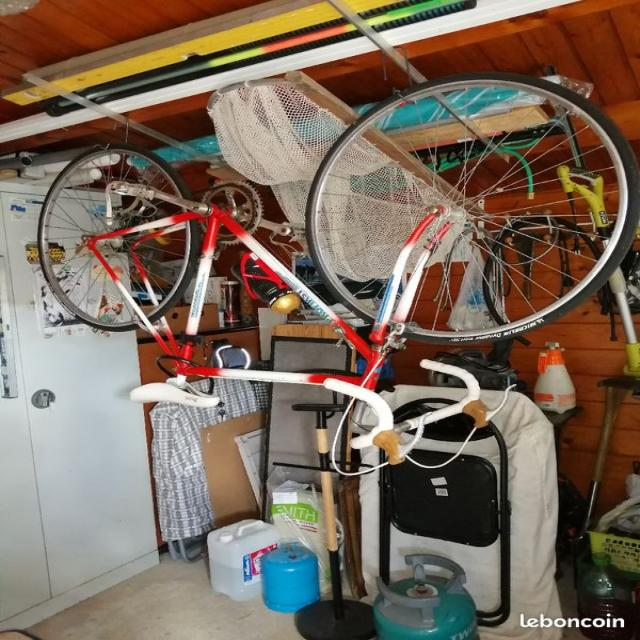Bike: (34, 74, 637, 470)
